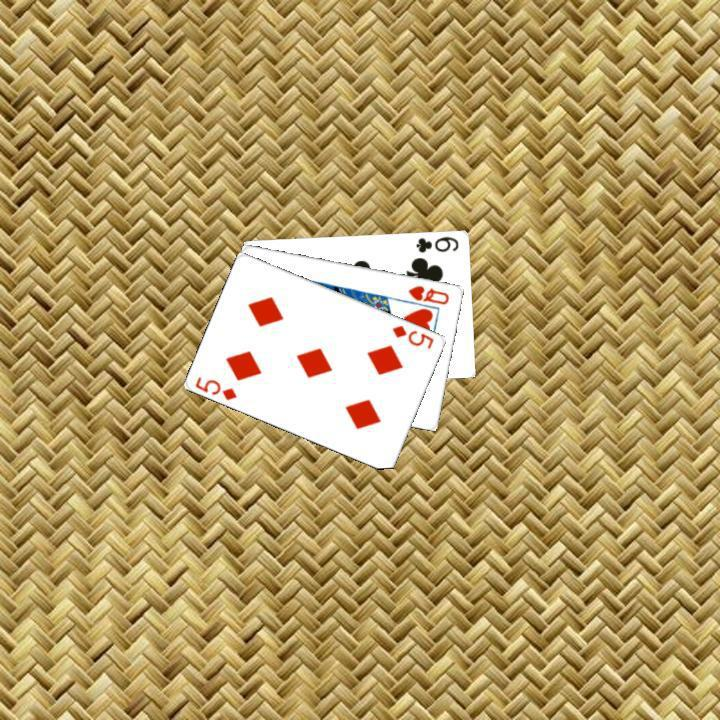5: (388, 321, 436, 351), (191, 372, 239, 402)
6: (412, 232, 461, 254)
Q: (404, 281, 451, 306)
